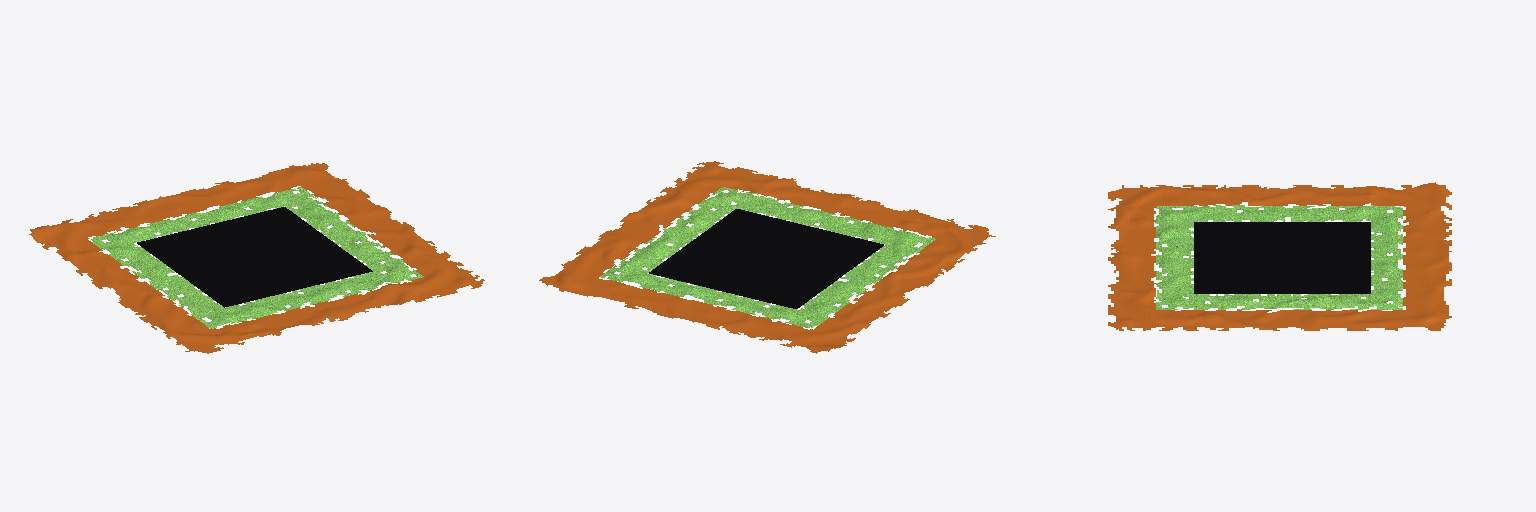
3 views of the same model, side by side, from view 1: azimuth 30°, elevation 25°; view 2: azimuth 150°, elevation 25°; view 3: azimuth 270°, elevation 25° (orthographic).
Parts seen in each view (by area): view 1: Plane_Plane.004, Plane.002_Plane.006, Plane.001_Plane.005; view 2: Plane_Plane.004, Plane.002_Plane.006, Plane.001_Plane.005; view 3: Plane_Plane.004, Plane.002_Plane.006, Plane.001_Plane.005.
Part boxes in pixels (x1,y1,x2,y2): Plane_Plane.004: (29,163,484,353); Plane.002_Plane.006: (137,207,372,307); Plane.001_Plane.005: (91,187,423,328); Plane_Plane.004: (539,161,995,353); Plane.002_Plane.006: (649,209,883,308); Plane.001_Plane.005: (600,187,935,327); Plane_Plane.004: (1108,182,1451,330); Plane.002_Plane.006: (1194,222,1370,293); Plane.001_Plane.005: (1156,205,1402,309).
Bounding box in the file's own units: 814 × 10.91 × 814.
3 materials, 1 textured.